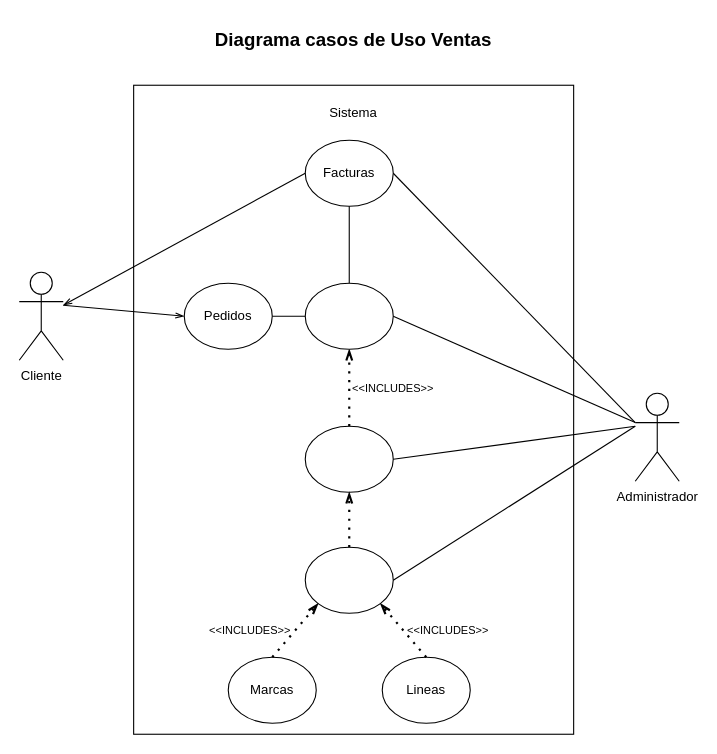
The diagram is 717 pixels wide and 754 high, and some of its shapes have lost their labels. Here are the shapes that lost their labels. From the top down, the centre of each, then its label:
At point (348, 315): "Venta".
At point (348, 458): "Inventarios".
At point (348, 579): "Productos".
